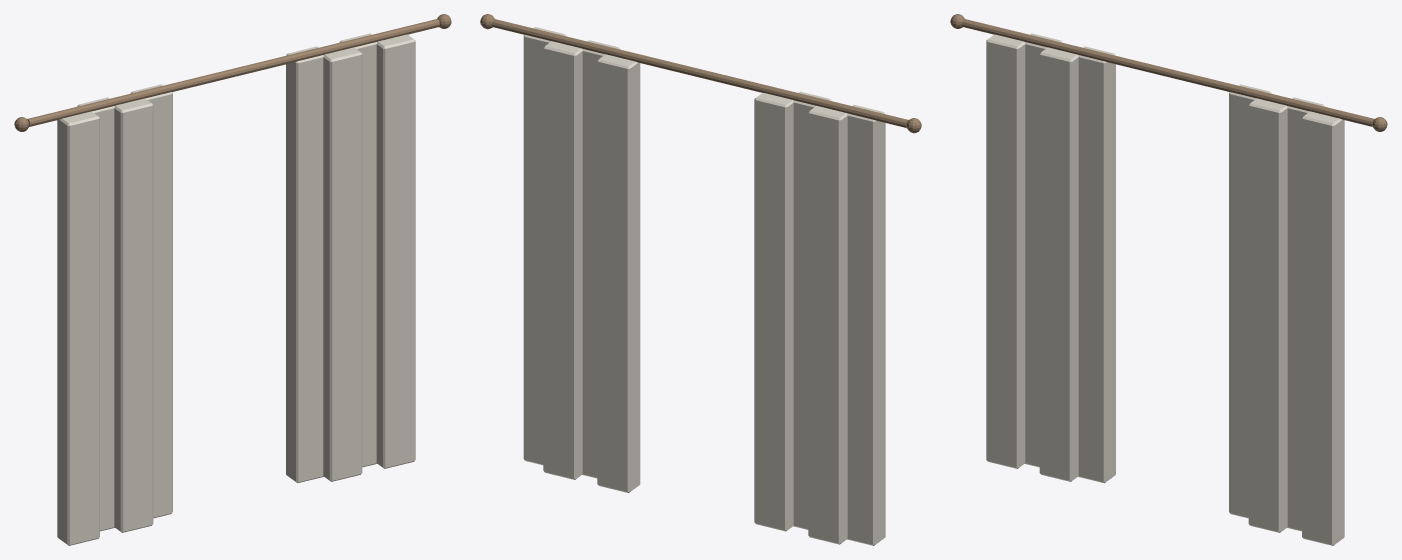
The model's file is model-lounge-furniture-curtains-0d079a1e57dc.glb.
3 renders of one model, left to right at view 1: azimuth 30°, elevation 25°; view 2: azimuth 150°, elevation 25°; view 3: azimuth 330°, elevation 25°, orthographic.
Visible parts, largest first — view 1: curtains-linen-pair; view 2: curtains-linen-pair; view 3: curtains-linen-pair.
Boxes of the visible parts, <box> form: curtains-linen-pair: <box>14,14,451,545</box>; curtains-linen-pair: <box>480,14,921,545</box>; curtains-linen-pair: <box>950,14,1387,545</box>.
Bounding box in the file's own units: 2.12 × 2.01 × 0.1599.
